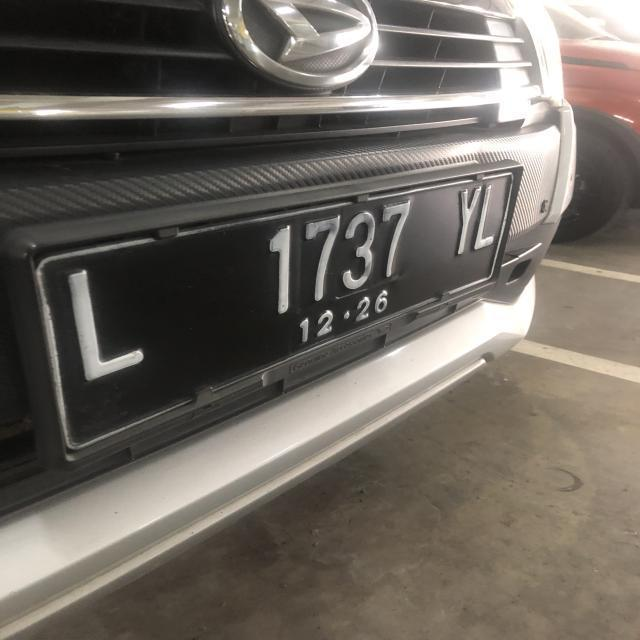1: (268, 218, 300, 317)
3: (340, 210, 380, 292)
7: (302, 211, 340, 306), (379, 198, 415, 280)
L: (64, 261, 154, 381), (474, 180, 501, 252)
Y: (450, 187, 484, 256)
